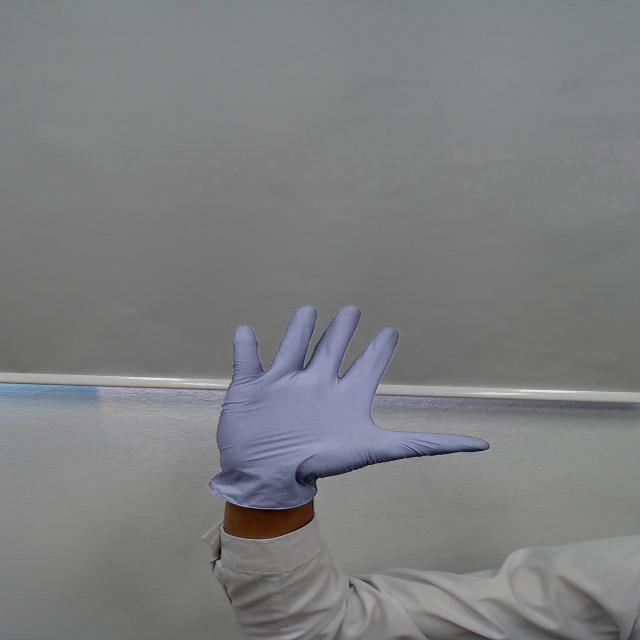glove: (192, 298, 505, 468)
